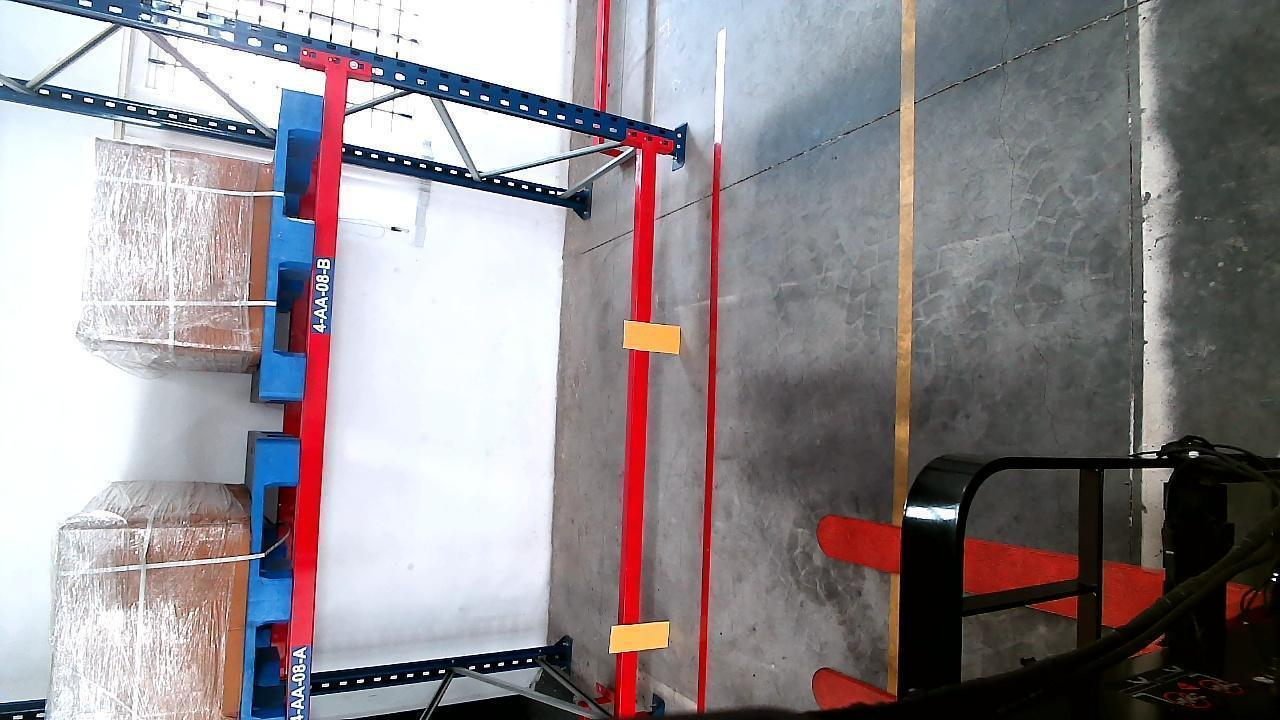red_line: (697, 90, 726, 713)
yellow_line: (892, 8, 919, 501)
